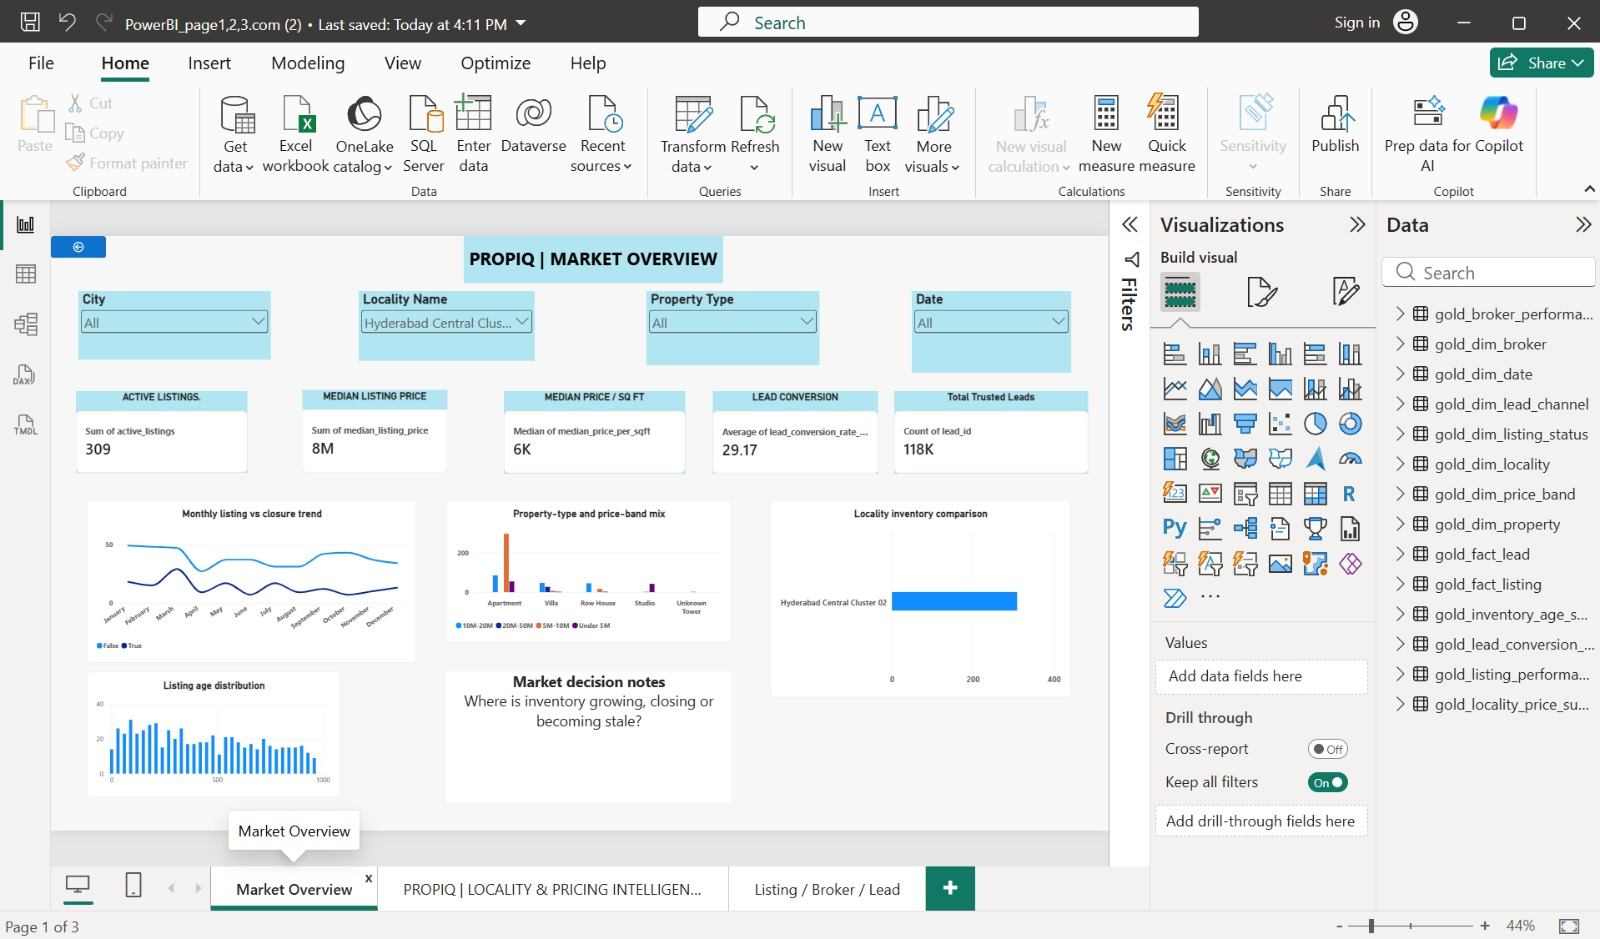

The dashboard page shown, as its layout file describes it:
{"tool":"powerbi","page":{"name":"Market Overview","canvas":[1920,1080],"ordinal":0},"visuals":[{"type":"actionButton","box":[0,0,100,40],"z":0},{"type":"textbox","box":[150,800,300,280],"z":1000},{"type":"textbox","box":[0,180,150,300],"z":2000},{"type":"textbox","box":[0,490,150,300],"z":3000},{"type":"textbox","box":[0,800,150,280],"z":4000},{"type":"textbox","box":[600,490,300,300],"z":5000},{"type":"textbox","box":[600,800,300,280],"z":6000},{"type":"textbox","box":[450,490,150,300],"z":7000},{"type":"textbox","box":[450,800,150,280],"z":8000},{"type":"textbox","box":[1220,800,300,280],"z":9000},{"type":"textbox","box":[1816.9,1064.1,12.7,16.3],"z":10000},{"type":"textbox","box":[0,0,1920.1,85.1],"z":11000},{"type":"slicer","fields":{"Values":["gold_dim_locality.city"]},"box":[34.1,227.1,349.3,124.9],"z":12000},{"type":"slicer","fields":{"Values":["gold_dim_locality.locality_name"]},"box":[422.5,227.1,319.4,126.7],"z":13000},{"type":"slicer","fields":{"Values":["gold_dim_property.property_type"]},"box":[804,222.6,313.4,129.5],"z":14000},{"type":"slicer","fields":{"Values":["gold_dim_date.date_key"]},"box":[1240.1,227.1,288.5,134],"z":15000},{"type":"cardVisual","title":"Total Trusted Leads","fields":{"Data":["CountNonNull(gold_fact_lead.lead_id)"]},"box":[1544.5,404.3,352.1,147.6],"z":16000},{"type":"lineChart","title":"Monthly listing vs closure trend","fields":{"Category":["gold_fact_listing.listing_created_date.Variation.Date Hierarchy.Month"],"Series":["gold_fact_listing.is_completed"],"Y":["CountNonNull(gold_fact_listing.listing_id)"]},"box":[65.9,572.4,459.8,258.8],"z":17000},{"type":"clusteredColumnChart","title":"Property-type and price-band mix","fields":{"Category":["gold_dim_property.property_type"],"Series":["gold_dim_price_band.price_band"],"Y":["CountNonNull(gold_fact_listing.listing_id)"]},"box":[661,572.4,517.6,258.8],"z":18000},{"type":"clusteredBarChart","title":"Locality inventory comparison","fields":{"Category":["gold_locality_price_summary.locality_name"],"Y":["Sum(gold_locality_price_summary.active_listings)"]},"box":[1321.9,567.8,413.4,268],"z":19000},{"type":"clusteredColumnChart","title":"Listing age distribution","fields":{"Category":["gold_fact_listing.days_on_market_status_aware (bins)"],"Y":["CountNonNull(gold_fact_listing.listing_id)"]},"box":[75,851.7,458.8,227.1],"z":20000},{"type":"textbox","box":[717.7,906.3,720,165.8],"z":22000},{"type":"cardVisual","title":"ACTIVE LISTINGS.","fields":{"Data":["Sum(gold_locality_price_summary.active_listings)"]},"box":[52.2,392.9,311.3,148.4],"z":22001},{"type":"cardVisual","title":"MEDIAN LISTING PRICE","fields":{"Data":["Median(gold_locality_price_summary.median_listing_price)"]},"box":[422.5,402,329.3,149.9],"z":22002},{"type":"cardVisual","title":"MEDIAN PRICE / SQ FT","fields":{"Data":["Median(gold_locality_price_summary.median_price_per_sqft)"]},"box":[824.5,404.3,329.3,149.9],"z":22003},{"type":"cardVisual","title":"LEAD CONVERSION","fields":{"Data":["Avg(gold_lead_conversion_summary.lead_conversion_rate_pct)"]},"box":[1203.8,404.3,300,150],"z":22004},{"type":"pageNavigator","box":[495.1,113.6,1033.4,84],"z":22005}]}

Visuals, with their boxes on the page's 1920x1080 design canvas (x1, y1, x2, y2). These are canvas units, not pixel positions in the 1600x939 screenshot, which may show the page scaled, cropped or inside an application window:
actionButton: {"x1": 0, "y1": 0, "x2": 100, "y2": 40}
textbox: {"x1": 150, "y1": 800, "x2": 450, "y2": 1080}
textbox: {"x1": 0, "y1": 180, "x2": 150, "y2": 480}
textbox: {"x1": 0, "y1": 490, "x2": 150, "y2": 790}
textbox: {"x1": 0, "y1": 800, "x2": 150, "y2": 1080}
textbox: {"x1": 600, "y1": 490, "x2": 900, "y2": 790}
textbox: {"x1": 600, "y1": 800, "x2": 900, "y2": 1080}
textbox: {"x1": 450, "y1": 490, "x2": 600, "y2": 790}
textbox: {"x1": 450, "y1": 800, "x2": 600, "y2": 1080}
textbox: {"x1": 1220, "y1": 800, "x2": 1520, "y2": 1080}
textbox: {"x1": 1817, "y1": 1064, "x2": 1830, "y2": 1080}
textbox: {"x1": 0, "y1": 0, "x2": 1920, "y2": 85}
slicer - gold_dim_locality.city: {"x1": 34, "y1": 227, "x2": 383, "y2": 352}
slicer - gold_dim_locality.locality_name: {"x1": 422, "y1": 227, "x2": 742, "y2": 354}
slicer - gold_dim_property.property_type: {"x1": 804, "y1": 223, "x2": 1117, "y2": 352}
slicer - gold_dim_date.date_key: {"x1": 1240, "y1": 227, "x2": 1529, "y2": 361}
"Total Trusted Leads" cardVisual: {"x1": 1544, "y1": 404, "x2": 1897, "y2": 552}
"Monthly listing vs closure trend" lineChart: {"x1": 66, "y1": 572, "x2": 526, "y2": 831}
"Property-type and price-band mix" clusteredColumnChart: {"x1": 661, "y1": 572, "x2": 1179, "y2": 831}
"Locality inventory comparison" clusteredBarChart: {"x1": 1322, "y1": 568, "x2": 1735, "y2": 836}
"Listing age distribution" clusteredColumnChart: {"x1": 75, "y1": 852, "x2": 534, "y2": 1079}
textbox: {"x1": 718, "y1": 906, "x2": 1438, "y2": 1072}
"ACTIVE LISTINGS." cardVisual: {"x1": 52, "y1": 393, "x2": 364, "y2": 541}
"MEDIAN LISTING PRICE" cardVisual: {"x1": 422, "y1": 402, "x2": 752, "y2": 552}
"MEDIAN PRICE / SQ FT" cardVisual: {"x1": 824, "y1": 404, "x2": 1154, "y2": 554}
"LEAD CONVERSION" cardVisual: {"x1": 1204, "y1": 404, "x2": 1504, "y2": 554}
pageNavigator: {"x1": 495, "y1": 114, "x2": 1528, "y2": 198}
